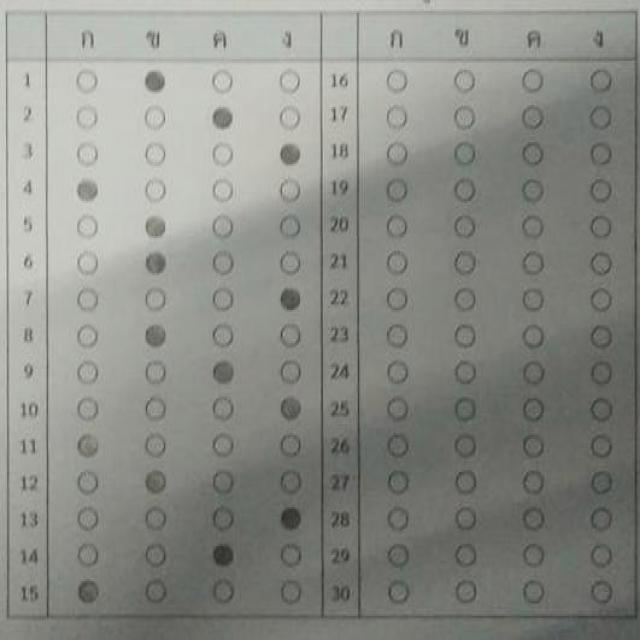a: (50, 173, 318, 208), (49, 578, 319, 612), (46, 429, 322, 461)
b: (47, 61, 318, 98), (50, 241, 320, 275), (49, 463, 324, 496), (49, 317, 320, 350), (49, 212, 320, 242)
c: (51, 540, 321, 575), (48, 354, 321, 387), (50, 100, 320, 132)
d: (48, 498, 321, 537), (46, 278, 319, 316), (49, 391, 324, 426), (49, 136, 318, 169)
null: (360, 572, 636, 608), (361, 96, 634, 132), (360, 354, 633, 389), (361, 245, 633, 280), (361, 502, 637, 536), (358, 170, 632, 204), (358, 206, 631, 240), (358, 136, 632, 169), (362, 463, 634, 496), (364, 317, 634, 350), (359, 66, 633, 98), (361, 394, 634, 426), (361, 428, 634, 460), (361, 540, 637, 570), (361, 285, 632, 315)
